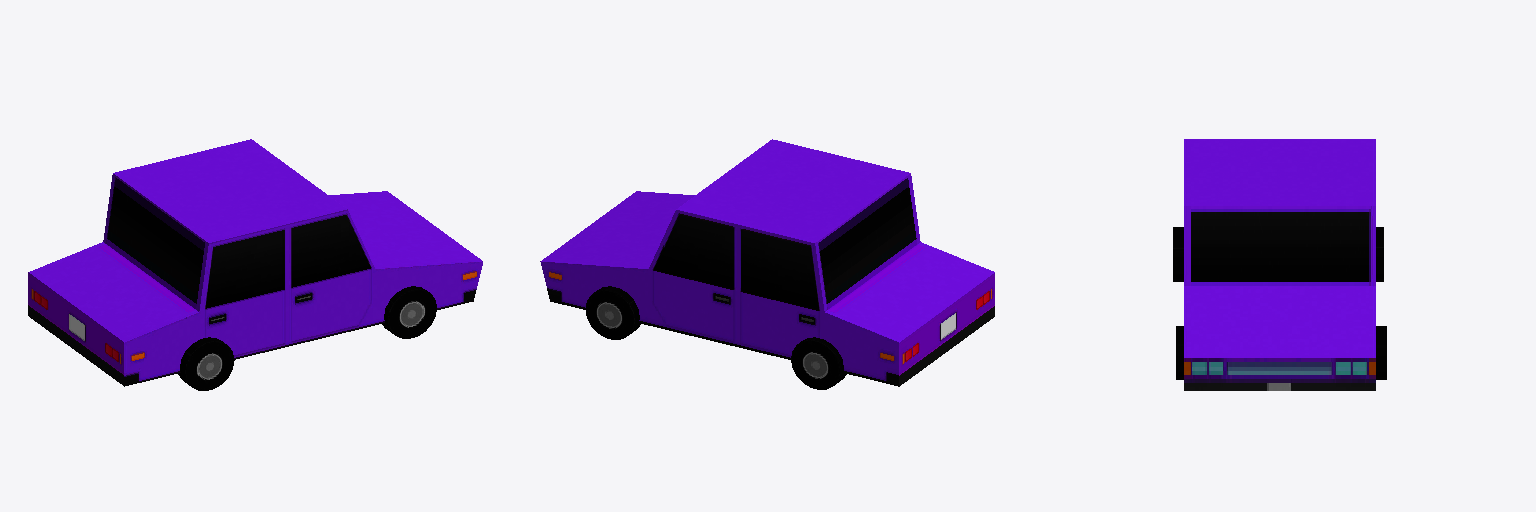
3 renders of one model, left to right at view 1: azimuth 30°, elevation 25°; view 2: azimuth 150°, elevation 25°; view 3: azimuth 270°, elevation 25°, orthographic.
Parts seen in each view (by area): view 1: Car_06; view 2: Car_06; view 3: Car_06.
Boxes of the visible parts, x1,y1,x2,y2 form: Car_06: [28, 139, 482, 390]; Car_06: [540, 139, 994, 389]; Car_06: [1173, 139, 1386, 390].
Bounding box in the file's own units: 242 × 91.5 × 125.
1 materials, 1 textured.